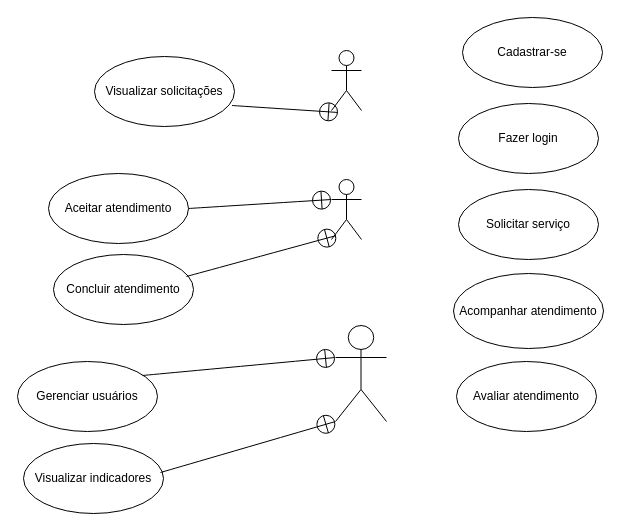
This 621x531 diagram has some shape labels left out. Here are the shapes that lost their labels. From the top down, the centre of each, then its label:
(346,80): Cidadão
(346,209): Prestador
(360,373): Administrador
